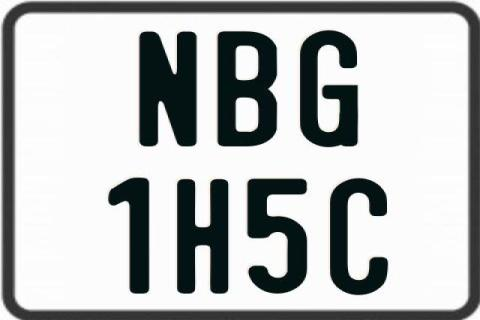0: (244, 176, 304, 295), (105, 176, 152, 295)
B: (216, 29, 275, 147)
C: (328, 176, 388, 295)
G: (299, 29, 359, 149)
H: (176, 178, 230, 294)
N: (139, 30, 201, 146)
